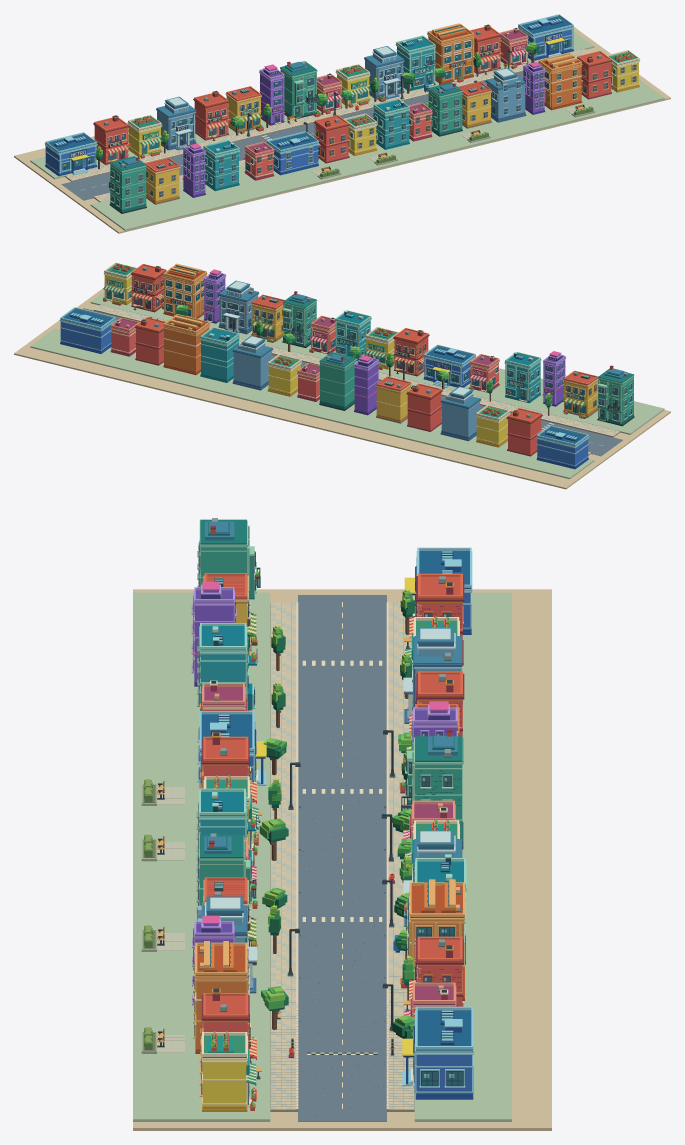
File: straight-street.glb
3 renders of one model, top to bottom at view 1: azimuth 30°, elevation 25°; view 2: azimuth 150°, elevation 25°; view 3: azimuth 270°, elevation 25°, orthographic. The views are drawn at different scales.
Visible parts, largest first — view 1: Road · Demo · courtyard, Road · Demo · sand, Architecture · Street | ivory, Road · Demo · asphalt, Foreground · Street | teal, Foreground · Street | book blue, Pavement · Street | paver, Architecture · Street | brick, Foreground · Street | brick, Architecture · Street | cobalt light, Foreground · Demo · rear glass, Foreground · Street | cream (+68 smaller); view 2: Road · Demo · courtyard, Road · Demo · sand, Architecture · Street | brick, Architecture · Street | post, Architecture · Street | cobalt, Foreground · Street | ivory, Architecture · Street | tangerine, Foreground · Street | book light, Foreground · Street | marine glass, Architecture · Street | lemon, Architecture · Street | teal, Foreground · Street | teal light (+55 smaller); view 3: Road · Demo · courtyard, Road · Demo · asphalt, Road · Demo · sand, Pavement · Street | paver, Pavement · Street | paver hot, Pavement · Street | paver cool, Pavement · Street | chalk, Foreground · Street | terra, Architecture · Street | cobalt light, Architecture · Street | roof blue, Architecture · Street | terra, Foreground · Street | lemon (+44 smaller).
Part boxes in pixels (<box>): Road · Demo · courtyard: <box>30,31,664,230</box>; Road · Demo · sand: <box>14,27,670,233</box>; Architecture · Street | ivory: <box>71,27,561,171</box>; Road · Demo · asphalt: <box>62,72,523,200</box>; Foreground · Street | teal: <box>110,90,462,209</box>; Foreground · Street | book blue: <box>204,104,409,188</box>; Pavement · Street | paver: <box>66,49,588,201</box>; Architecture · Street | brick: <box>94,37,499,163</box>; Foreground · Street | brick: <box>315,62,611,161</box>; Architecture · Street | cobalt light: <box>44,14,574,175</box>; Foreground · Demo · rear glass: <box>127,65,635,206</box>; Foreground · Street | cream: <box>146,93,490,201</box>; Road · Demo · courtyard: <box>30,292,664,478</box>; Road · Demo · sand: <box>14,288,670,489</box>; Architecture · Street | brick: <box>136,329,541,454</box>; Architecture · Street | post: <box>233,344,479,436</box>; Architecture · Street | cobalt: <box>60,313,588,466</box>; Foreground · Street | ivory: <box>103,262,551,404</box>; Architecture · Street | tangerine: <box>164,318,209,372</box>; Foreground · Street | book light: <box>334,310,541,400</box>; Foreground · Street | marine glass: <box>107,265,562,397</box>; Architecture · Street | lemon: <box>268,356,507,444</box>; Architecture · Street | teal: <box>320,360,356,406</box>; Foreground · Street | teal light: <box>282,300,634,423</box>; Road · Demo · courtyard: <box>133,592,511,1121</box>; Road · Demo · asphalt: <box>298,595,386,1121</box>; Road · Demo · sand: <box>133,589,551,1130</box>; Pavement · Street | paver: <box>271,602,413,1109</box>; Pavement · Street | paver hot: <box>271,602,413,1109</box>; Pavement · Street | paver cool: <box>271,602,413,1109</box>; Pavement · Street | chalk: <box>296,602,388,1109</box>; Foreground · Street | terra: <box>203,529,259,1110</box>; Architecture · Street | cobalt light: <box>402,547,473,1093</box>; Architecture · Street | roof blue: <box>416,551,472,1050</box>; Architecture · Street | terra: <box>405,576,462,962</box>; Foreground · Street | lemon: <box>203,589,266,1106</box>.
Bounding box in the file's own units: 101 × 9.59 × 33.2.
